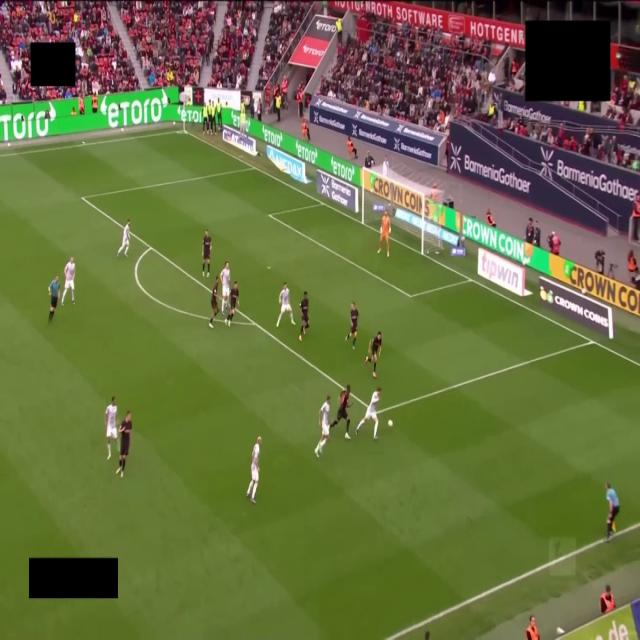ball: (388, 420, 392, 427)
player: (356, 388, 380, 439), (330, 385, 350, 439), (116, 411, 132, 478), (314, 396, 330, 458), (247, 437, 261, 503), (105, 397, 118, 459), (277, 282, 294, 327), (365, 332, 382, 377), (62, 256, 75, 305), (345, 302, 358, 349), (225, 281, 238, 326), (378, 209, 390, 256), (220, 262, 230, 315), (209, 276, 219, 328), (299, 291, 309, 341), (118, 220, 130, 256), (202, 230, 211, 277)
referee: (48, 276, 59, 321)
